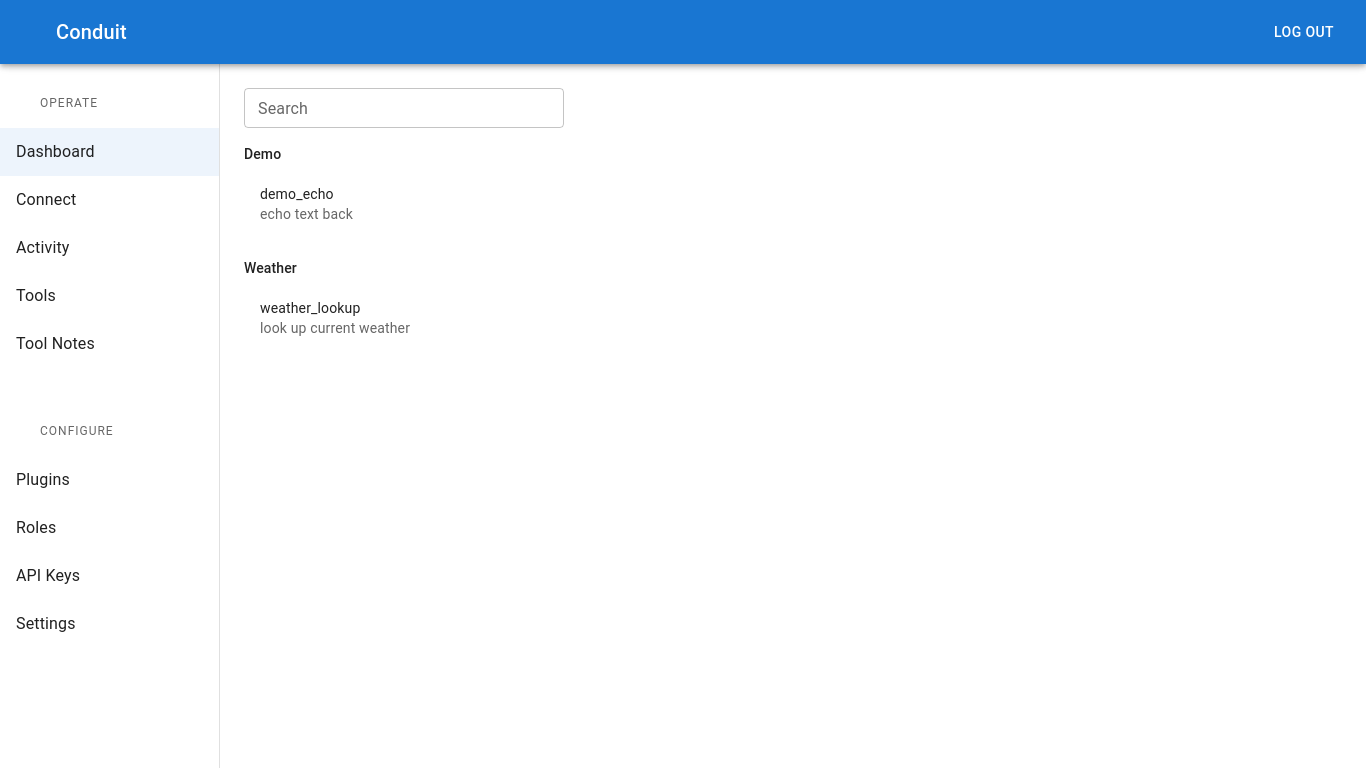
Test case: tools page › narrows rows via search and expands schema on click
This screenshot has width=1366, height=768.
Expected: the text "demo_echo" is shown, [260, 186, 334, 202]
Expected: the text "weather_lookup" is shown, [260, 300, 360, 316]
In the field labelled "Search": (404, 108) [244, 88, 564, 128], type "weather"
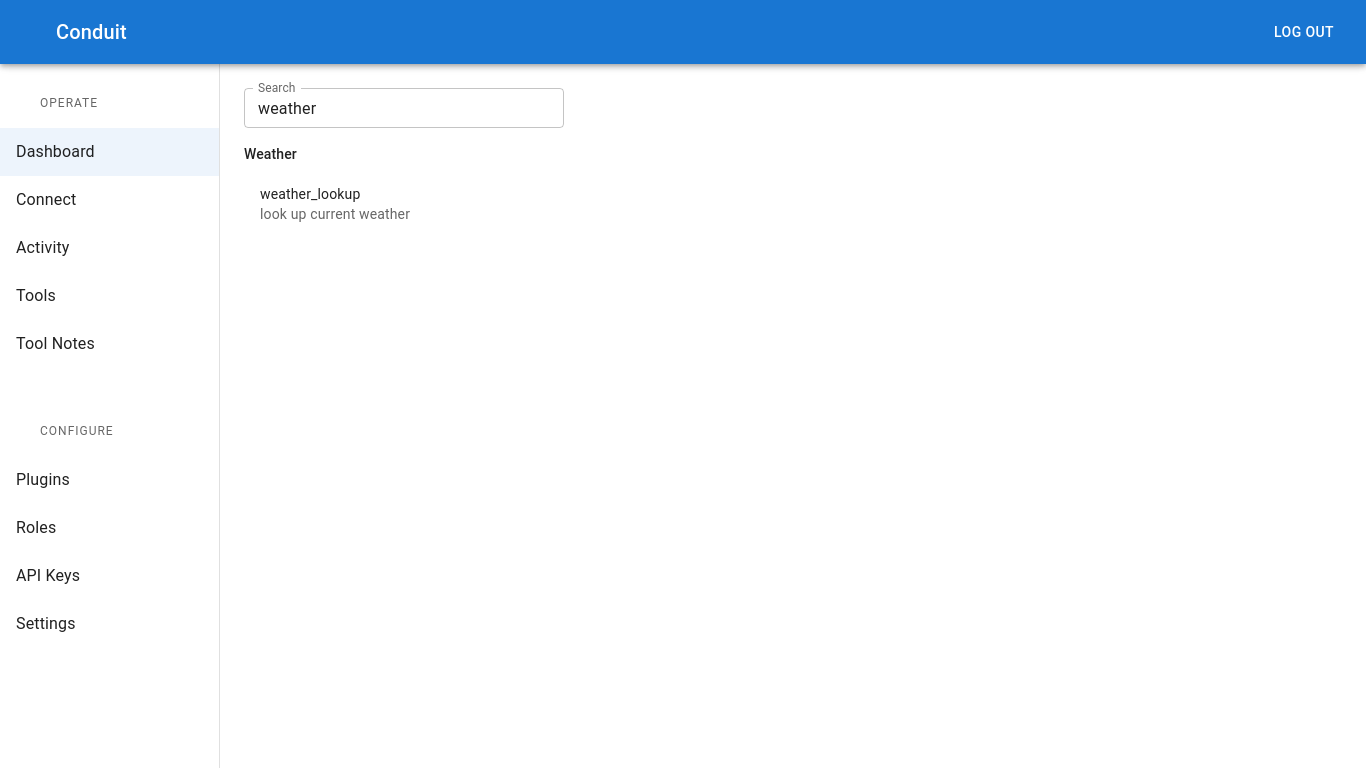
Expected: the text "\"city\"" is not shown
Expected: the button "demo_echo" is gone
Click the text "weather_lookup": (310, 194) [260, 186, 360, 202]
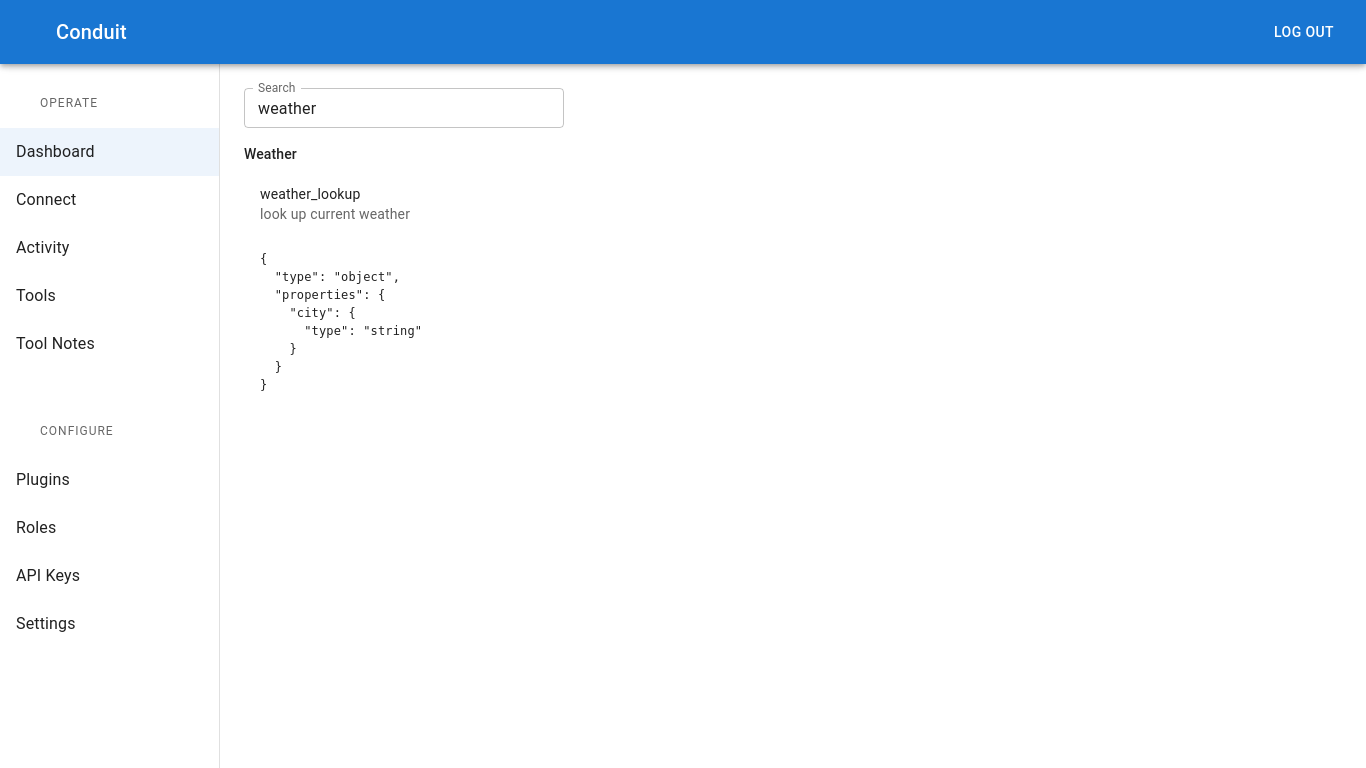
Expected: the text "\"city\"" is shown, [260, 252, 422, 392]
